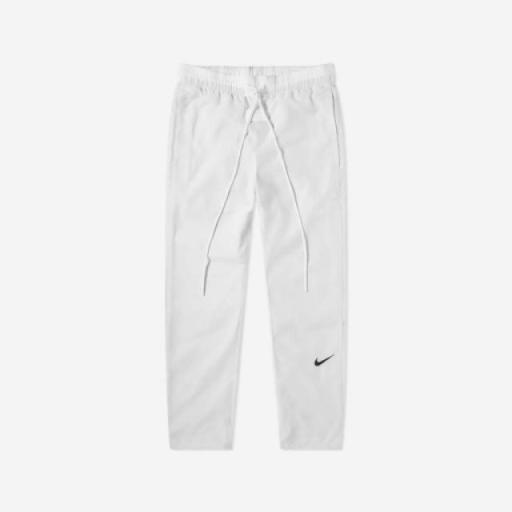Nike: (310, 351, 339, 368)
